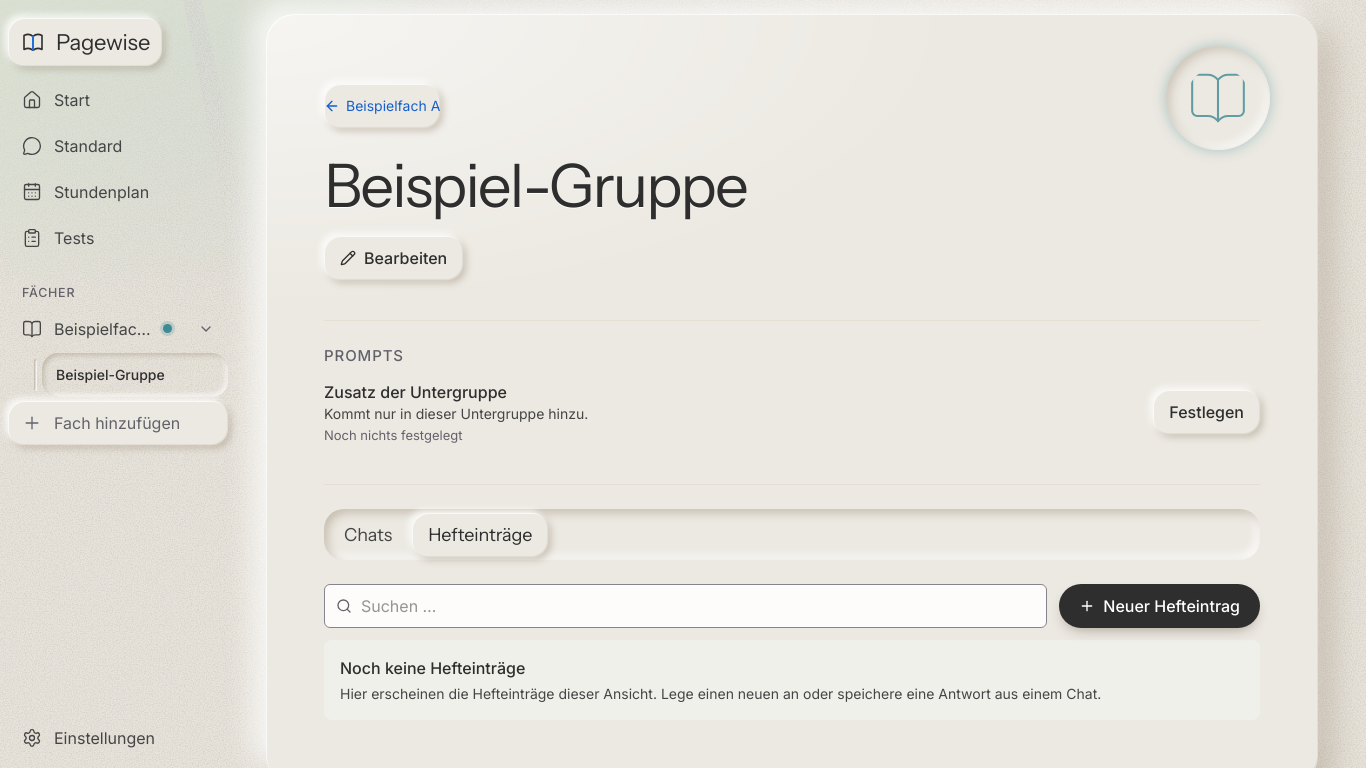
Test: Liste der Hefteinträge › legt einen neuen Eintrag an und öffnet den Editor
What coordinates should you click on to do the following:
click the button "Neuer Hefteintrag"
I would click on:
 (1160, 606)
Its box is [1059,584,1260,628].
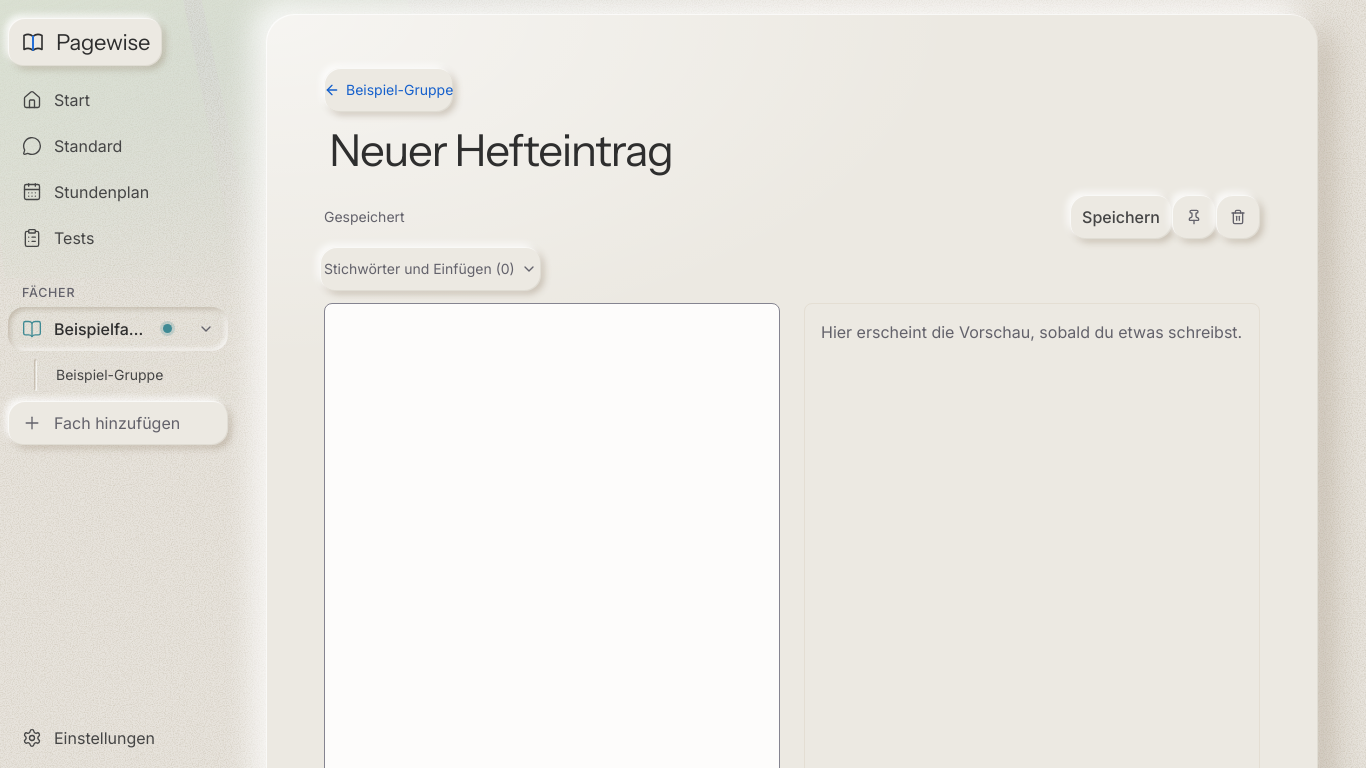
Now the 1st text box named "Titel" is shown, box [324,120,1260,181]
